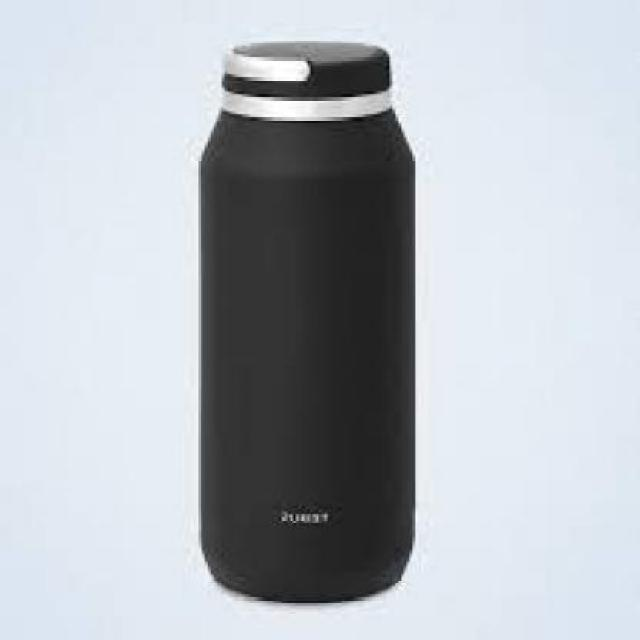Drinking: (171, 34, 452, 612)
